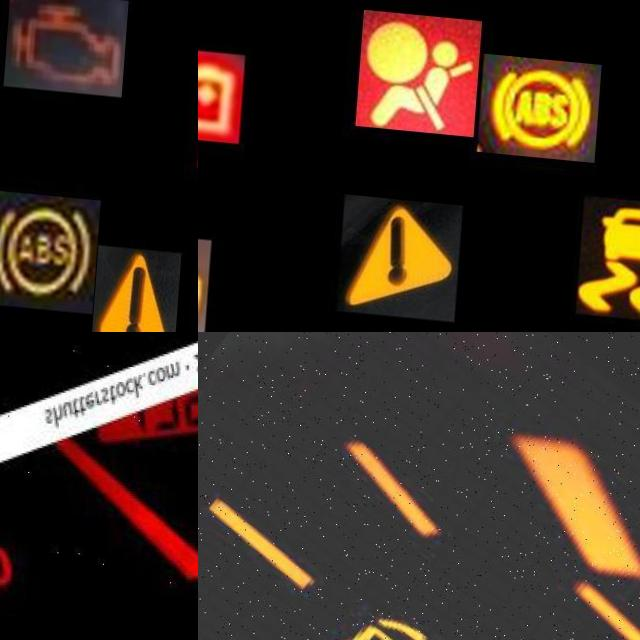Central Warning lamp: (345, 188, 470, 314), (99, 239, 189, 332)
